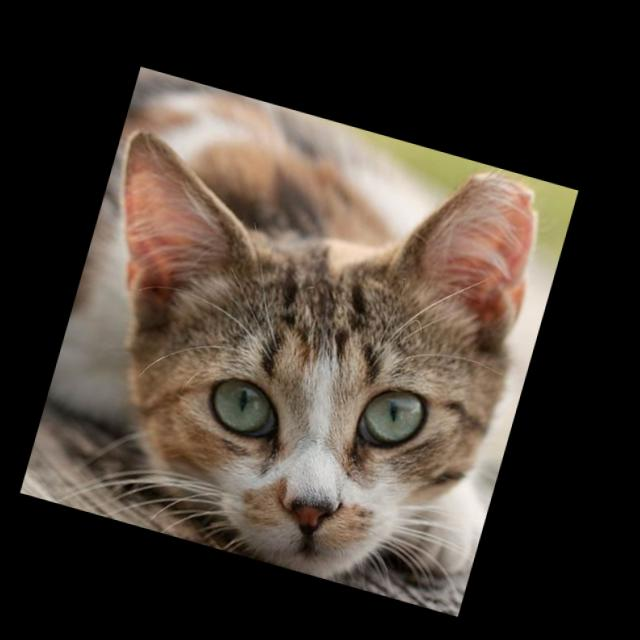animals: (22, 59, 562, 608)
